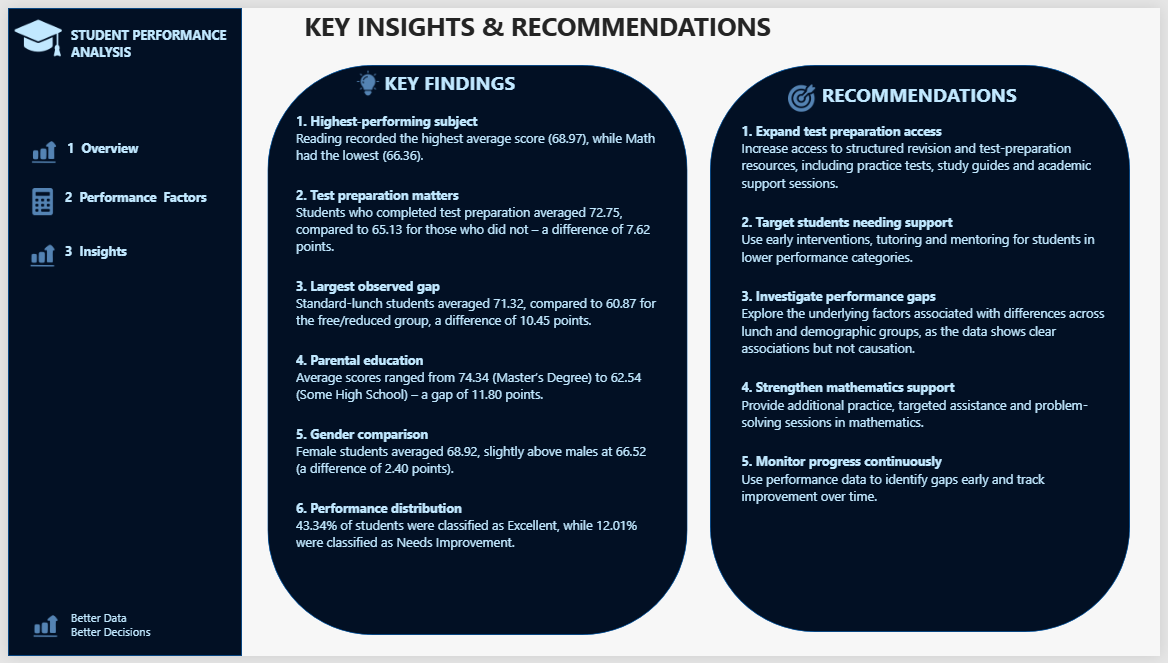

The page's visual inventory and layout, read from the dashboard file:
{"tool":"powerbi","page":{"name":"Insghts","canvas":[1920,1080],"ordinal":2},"visuals":[{"type":"textbox","box":[290,0,1185,122.5],"z":5000},{"type":"shape","box":[0,0,390,1080],"z":9000},{"type":"image","box":[0,5,100,90],"z":10000},{"type":"textbox","box":[105,30,267.5,142.5],"z":11000},{"type":"textbox","box":[105,1002.5,267.5,57.5],"z":15000},{"type":"image","box":[15,300,85,45],"z":16000},{"type":"image","box":[27.5,217.5,65,45],"z":18000},{"type":"image","box":[30,1007.5,65,45],"z":20000},{"type":"image","box":[25,390,65,45],"z":21000},{"type":"textbox","box":[95,300,277.5,60],"z":22000},{"type":"textbox","box":[95,390,195,45],"z":23000},{"type":"textbox","box":[92.5,217.5,297.5,82.5],"z":24000},{"type":"shape","box":[432.5,95,700,950],"z":24001},{"type":"shape","box":[1170,95,700,945],"z":24002},{"type":"textbox","box":[627.5,102.5,255,70],"z":24003},{"type":"textbox","box":[480,172.5,602.5,812.5],"z":24004},{"type":"textbox","box":[1265,122.5,507.5,67.5],"z":24005},{"type":"textbox","box":[1222.5,190,610,890],"z":24006},{"type":"image","box":[1290,127.5,65,45],"z":24007},{"type":"image","box":[565,100,70,50],"z":24008}]}

Visuals, with their boxes in screenshot pixels (x1, y1, x2, y2), scaled from the page's 1920x1080 canvas onto the 1168x663 screenshot:
textbox: left=176, top=0, right=897, bottom=75
shape: left=0, top=0, right=237, bottom=662
image: left=0, top=3, right=61, bottom=58
textbox: left=64, top=18, right=227, bottom=106
textbox: left=64, top=615, right=227, bottom=651
image: left=9, top=184, right=61, bottom=212
image: left=17, top=134, right=56, bottom=161
image: left=18, top=618, right=58, bottom=646
image: left=15, top=239, right=55, bottom=267
textbox: left=58, top=184, right=227, bottom=221
textbox: left=58, top=239, right=176, bottom=267
textbox: left=56, top=134, right=237, bottom=184
shape: left=263, top=58, right=689, bottom=642
shape: left=712, top=58, right=1138, bottom=638
textbox: left=382, top=63, right=537, bottom=106
textbox: left=292, top=106, right=659, bottom=605
textbox: left=770, top=75, right=1078, bottom=117
textbox: left=744, top=117, right=1115, bottom=662
image: left=785, top=78, right=824, bottom=106
image: left=344, top=61, right=386, bottom=92
